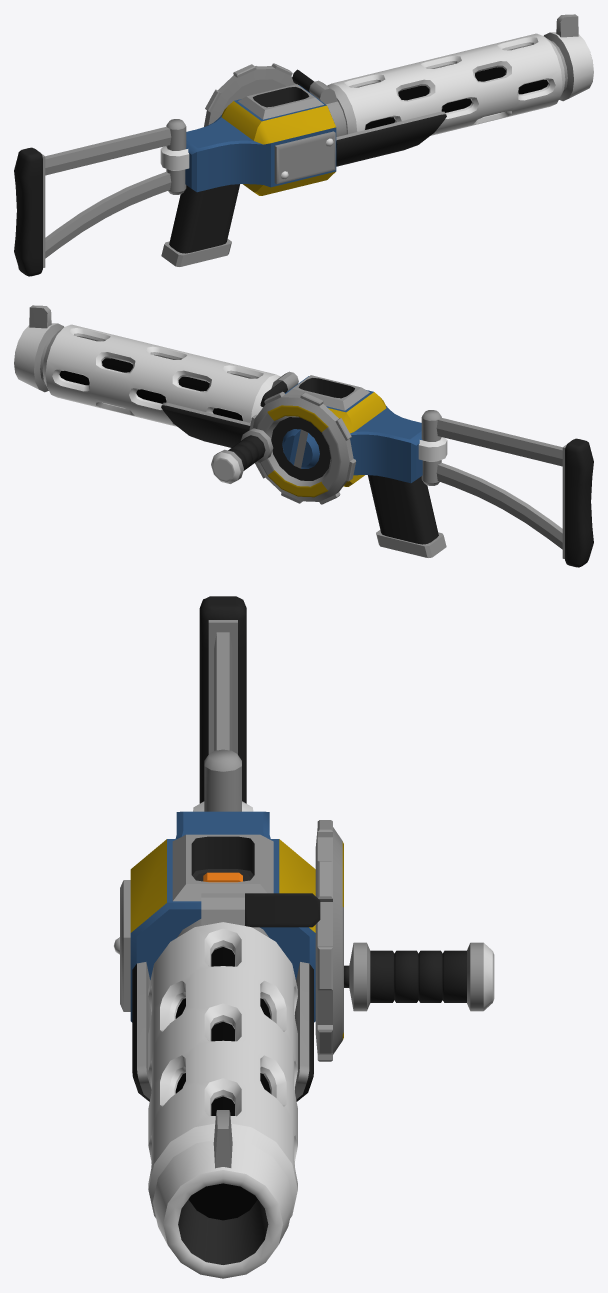
File: AutoRifle.FBX
The picture shows the model from 3 angles, top to bottom: view 1: azimuth 30°, elevation 25°; view 2: azimuth 150°, elevation 25°; view 3: azimuth 270°, elevation 25°; orthographic projection. The views are drawn at different scales.
Parts seen in each view (by area): view 1: AutoRifle, HotBarrel, Wheel; view 2: AutoRifle, HotBarrel, Wheel, Handle; view 3: AutoRifle, HotBarrel, Handle, Wheel.
Boxes of the visible parts, left/top/right/bottom form: AutoRifle: left=14, top=14, right=593, bottom=276; HotBarrel: left=327, top=33, right=565, bottom=135; Wheel: left=204, top=63, right=295, bottom=126; AutoRifle: left=14, top=305, right=593, bottom=567; HotBarrel: left=42, top=324, right=280, bottom=426; Wheel: left=249, top=391, right=356, bottom=504; Handle: left=211, top=428, right=273, bottom=483; AutoRifle: left=114, top=596, right=320, bottom=1278; HotBarrel: left=148, top=922, right=297, bottom=1218; Handle: left=344, top=942, right=494, bottom=1011; Wheel: left=315, top=820, right=343, bottom=1061.
Bounding box in the file's own units: 442 × 114 × 129.
